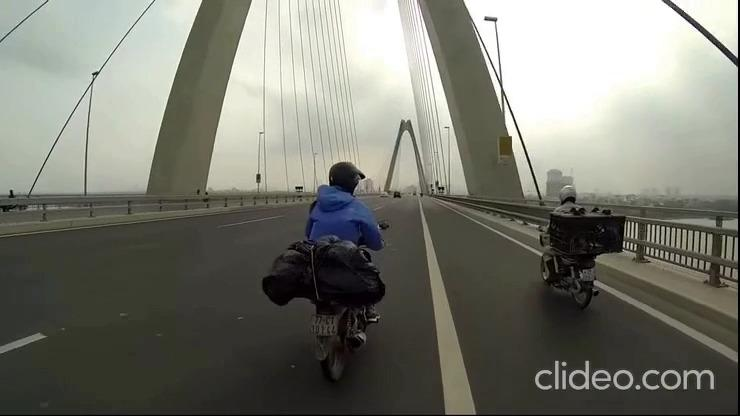helmet: (328, 161, 366, 198), (558, 184, 578, 206)
